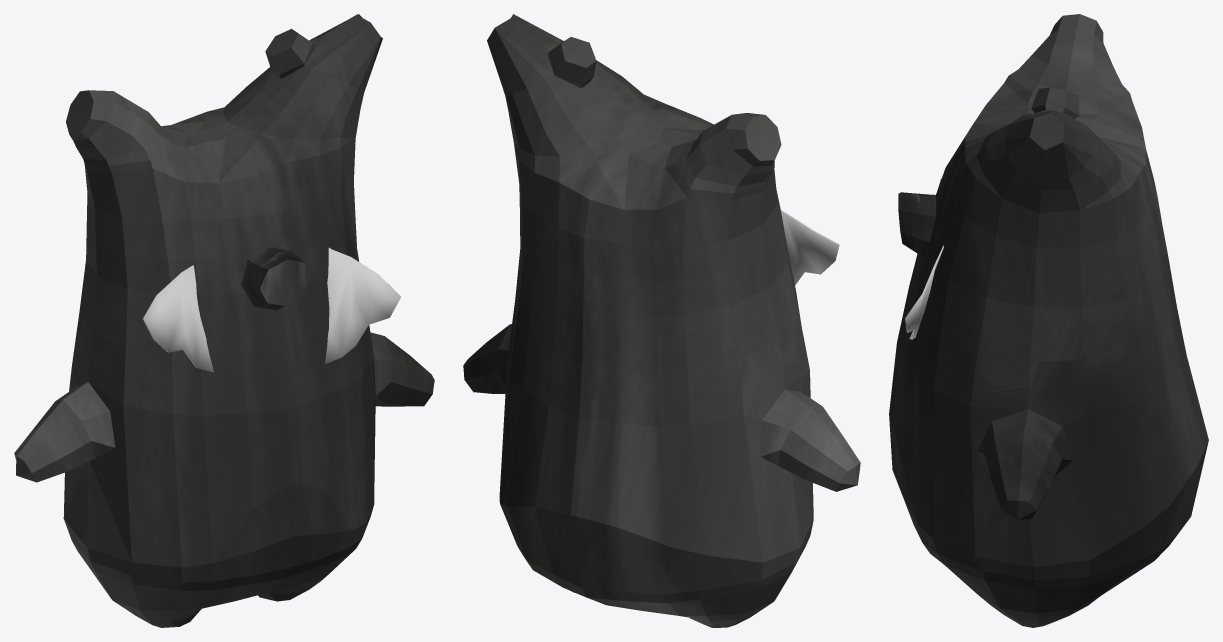
File: frame_0089.obj
3 views of the same model, side by side, from view 1: azimuth 30°, elevation 25°; view 2: azimuth 150°, elevation 25°; view 3: azimuth 270°, elevation 25° (orthographic). The views are drawn at different scales.
Parts seen in each view (by area): view 1: korok, leaf, nose; view 2: korok, leaf; view 3: korok, nose, leaf.
Part boxes in pixels (bbox=[...]): korok: bbox=[14, 14, 434, 627]; leaf: bbox=[142, 247, 400, 372]; nose: bbox=[241, 247, 310, 310]; korok: bbox=[463, 14, 860, 627]; leaf: bbox=[781, 210, 839, 285]; korok: bbox=[889, 14, 1208, 627]; nose: bbox=[898, 192, 935, 256]; leaf: bbox=[905, 178, 943, 339].
Bounding box in the file's own units: 1.68 × 2.23 × 1.17.
